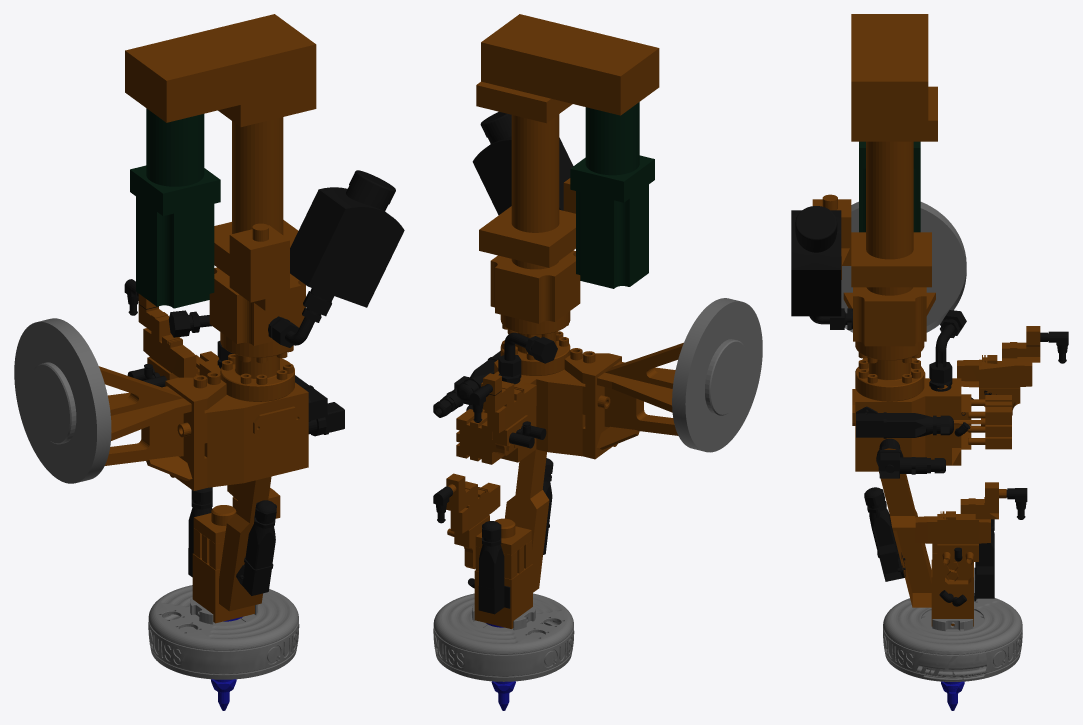
3 views of the same model, side by side, from view 1: azimuth 30°, elevation 25°; view 2: azimuth 150°, elevation 25°; view 3: azimuth 270°, elevation 25° (orthographic). The views are drawn at different scales.
Visible parts, largest first — view 1: F19704000046499800797_001_cgr_klebepistole_030rb300 (×4); view 2: F19704000046499800797_001_cgr_klebepistole_030rb300 (×4); view 3: F19704000046499800797_001_cgr_klebepistole_030rb300 (×4).
Boxes of the visible parts, left/top/right/bottom form: F19704000046499800797_001_cgr_klebepistole_030rb300 (×4): left=14, top=14, right=404, bottom=679; F19704000046499800797_001_cgr_klebepistole_030rb300 (×4): left=433, top=14, right=762, bottom=681; F19704000046499800797_001_cgr_klebepistole_030rb300 (×4): left=791, top=14, right=1068, bottom=681.
Bounding box in the file's own units: 422 × 361 × 928.
